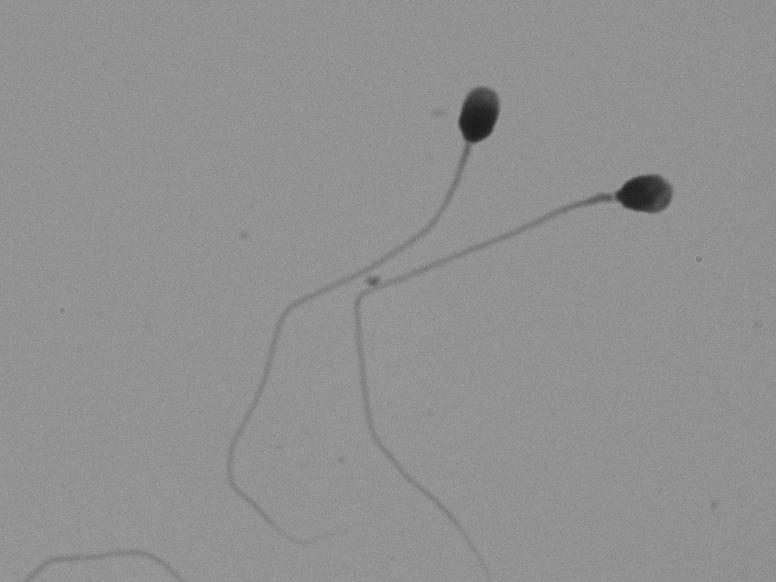Abnormal: (469, 164, 728, 307)
Normal: (239, 40, 511, 416)
